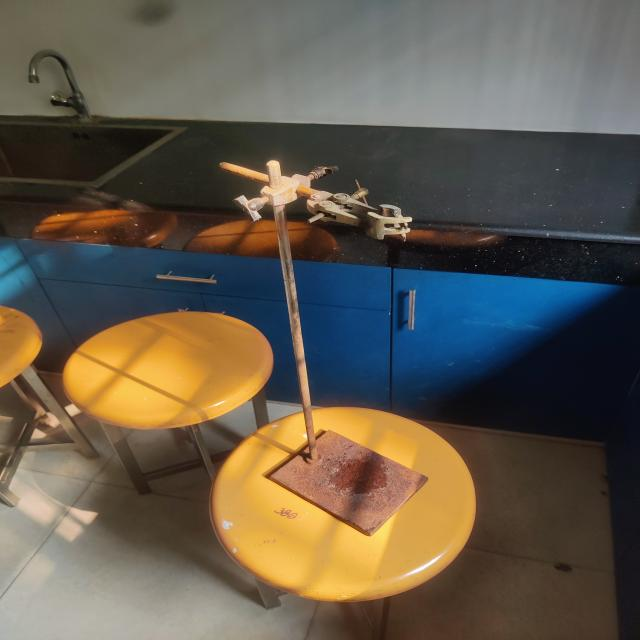Burette_Stands: (177, 119, 456, 568)
